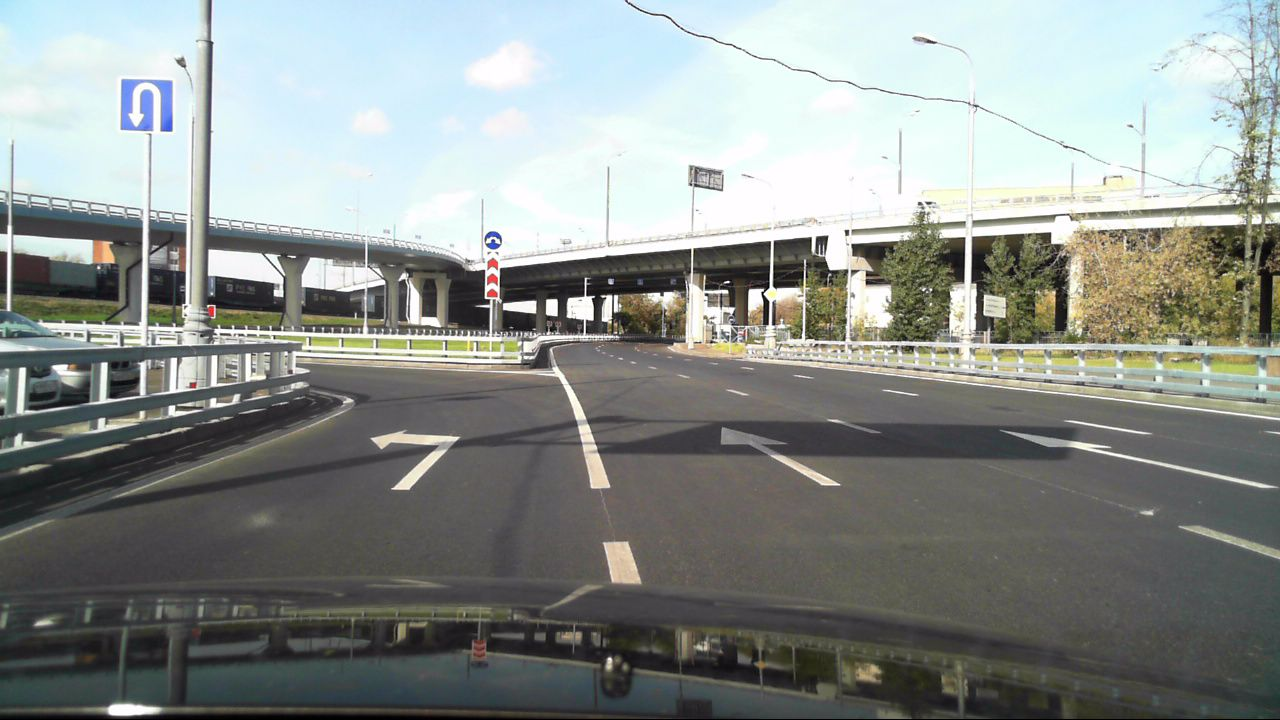U-turn: (119, 76, 174, 134)
